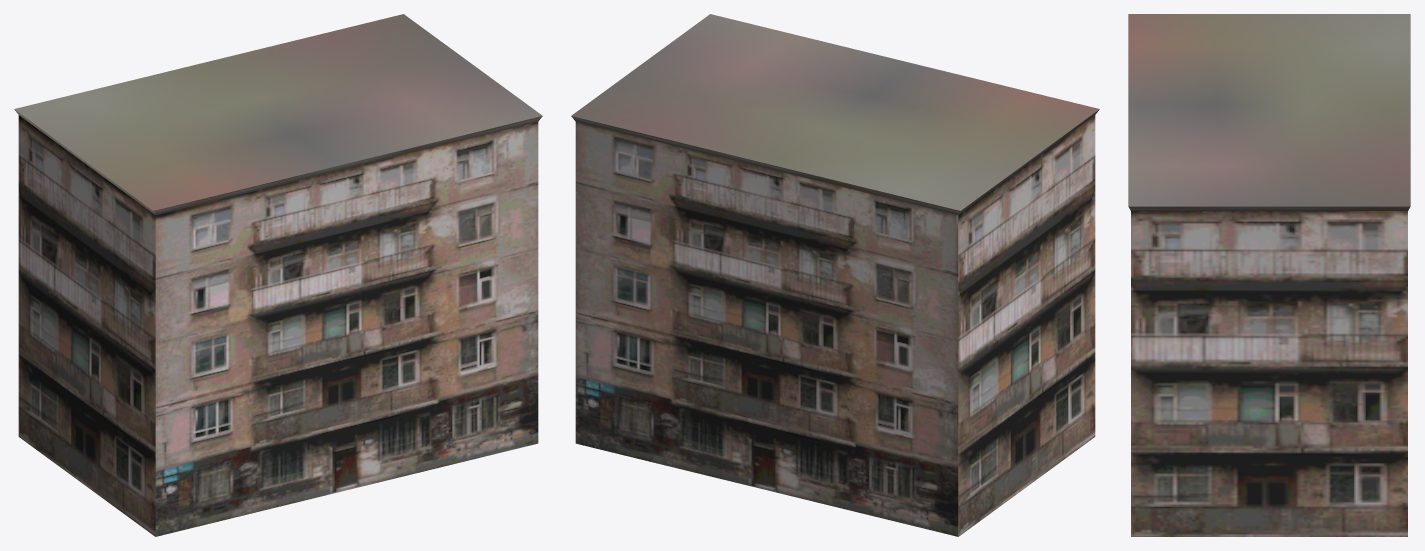
File: house02.glb
3 views of the same model, side by side, from view 1: azimuth 30°, elevation 25°; view 2: azimuth 150°, elevation 25°; view 3: azimuth 270°, elevation 25° (orthographic).
Parts seen in each view (by area): view 1: house02; view 2: house02; view 3: house02.
Boxes of the visible parts, x1,y1,x2,y2 form: house02: (14, 14, 542, 536); house02: (571, 14, 1099, 536); house02: (1128, 14, 1410, 536).
Size of the model in its own units: 4.28 by 3.44 by 2.65.
Materials: 2 (2 with a texture image).
